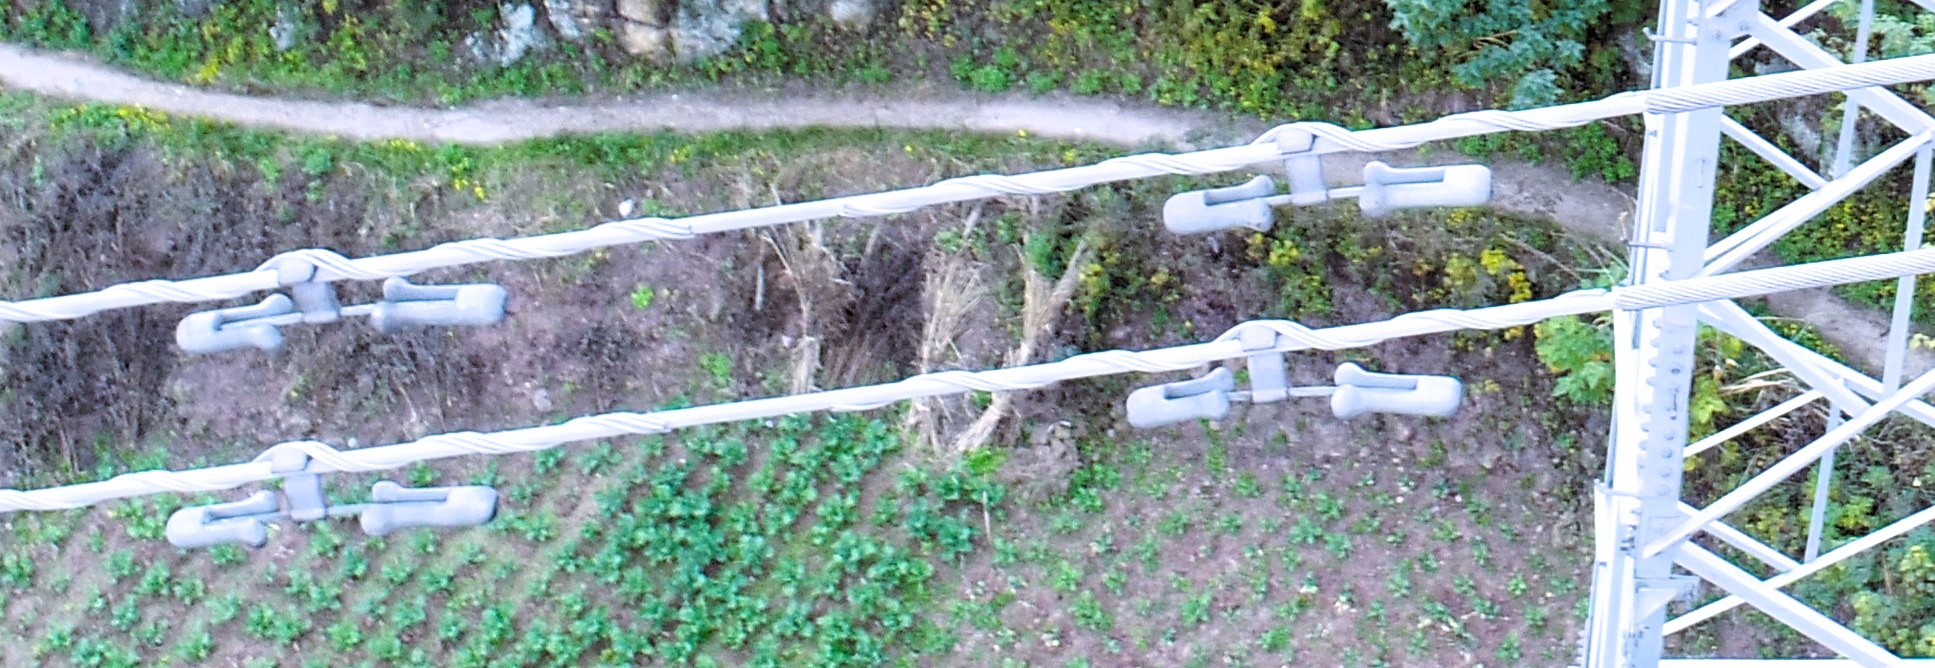Shockproof hammer: (1111, 299, 1478, 445), (160, 223, 520, 365), (154, 425, 507, 561), (1159, 101, 1504, 237)
